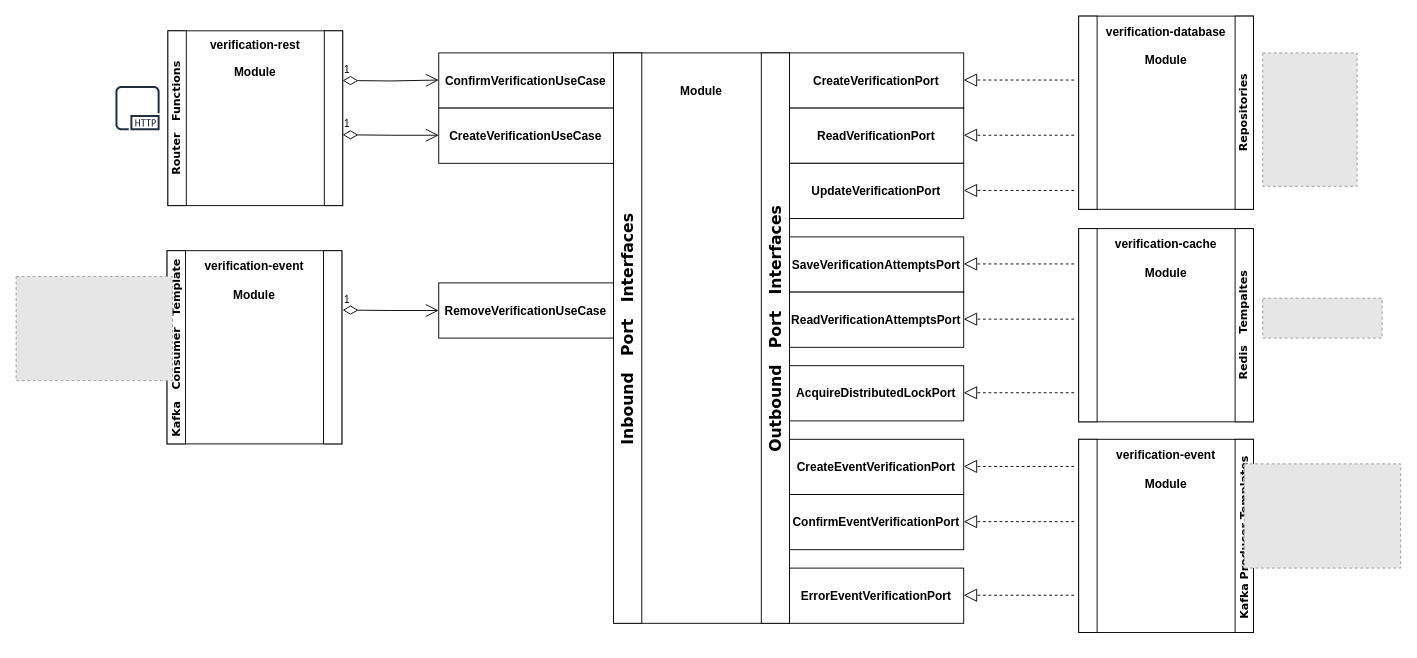
The diagram is 1417 pixels wide and 658 high, and some of its shapes have lost their labels. Grey dashed boxes stand in for pictures. The shapes that lost their labels are listed below. From the top down, each one's box as (x1, y1, x2, y2) in pixels, then its label:
(109, 80, 165, 136): REST
(323, 30, 343, 206): VerificationRestAdapter
(1078, 15, 1097, 209): Persitence Adapters
(613, 52, 789, 623): verification-domain
(1078, 228, 1097, 422): Cache Adapters
(323, 250, 342, 444): VerificationEventAdapter
(1078, 438, 1097, 632): Event Adapters
